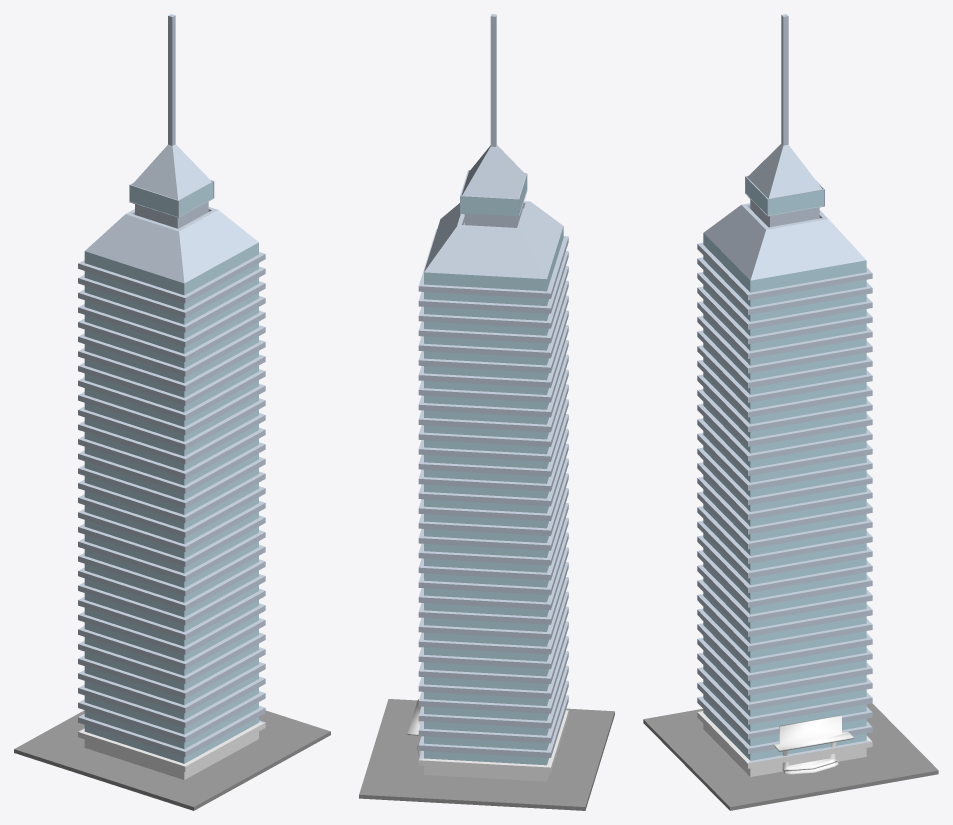
The model's file is building1.glb.
3 views of the same model, side by side, from view 1: azimuth 30°, elevation 25°; view 2: azimuth 150°, elevation 25°; view 3: azimuth 270°, elevation 25° (orthographic).
Visible parts, largest first — view 1: bulding; view 2: bulding; view 3: bulding.
Part boxes in pixels (x1,y1,x2,y2): bulding: (14,14,330,810); bulding: (359,14,614,810); bulding: (643,14,938,810).
Size of the model in its own units: 2.24 by 6.13 by 2.25.
